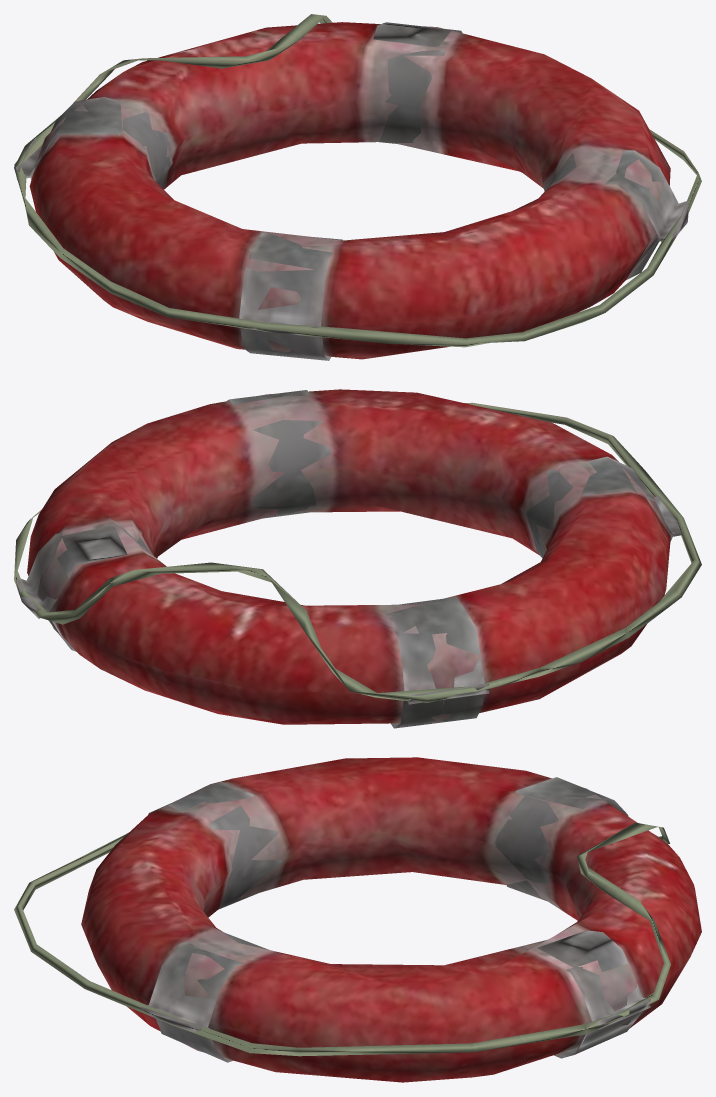
File: lifebuoy.glb
3 views of the same model, one above another, from view 1: azimuth 30°, elevation 25°; view 2: azimuth 150°, elevation 25°; view 3: azimuth 270°, elevation 25° (orthographic). The views are drawn at different scales.
Visible parts, largest first — view 1: lifebuoy; view 2: lifebuoy; view 3: lifebuoy.
Part boxes in pixels (x1,y1,x2,y2): lifebuoy: [14, 14, 701, 360]; lifebuoy: [14, 389, 701, 728]; lifebuoy: [14, 757, 701, 1082].
Size of the model in its own units: 0.7727 by 0.1501 by 0.8383.
Materials: 1 (1 with a texture image).
